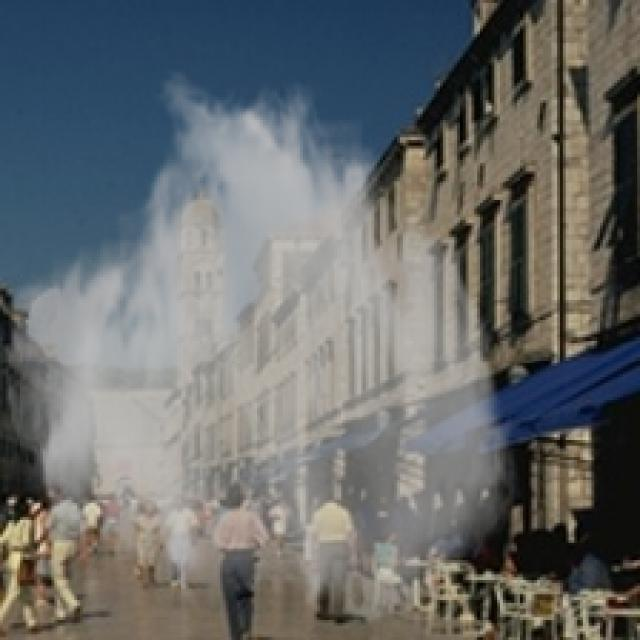smoke: (0, 69, 520, 628)
